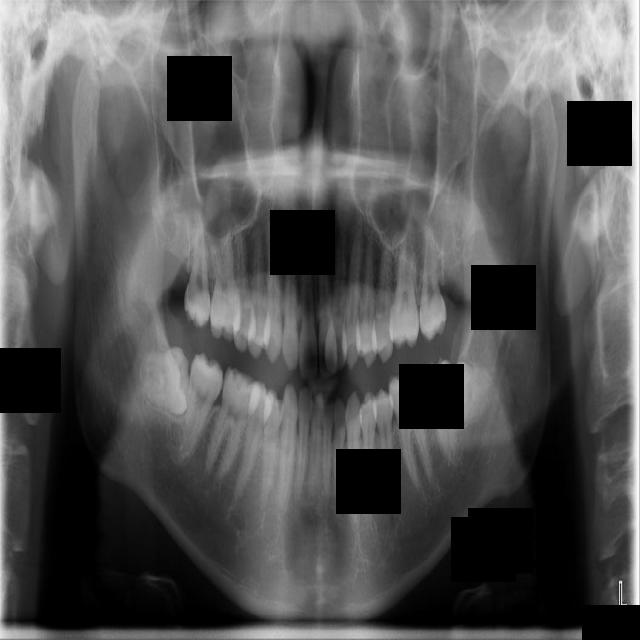73: (576, 562, 584, 568)
BioHorizons Implant: (419, 224, 449, 340)
Biomet 3i Implant: (443, 358, 496, 427)
Blue Sky Bio Implant: (420, 357, 459, 469)
Caries: (179, 212, 211, 327)
Implant: (177, 351, 227, 465)
Keystone Dental Implant: (135, 345, 195, 421)
